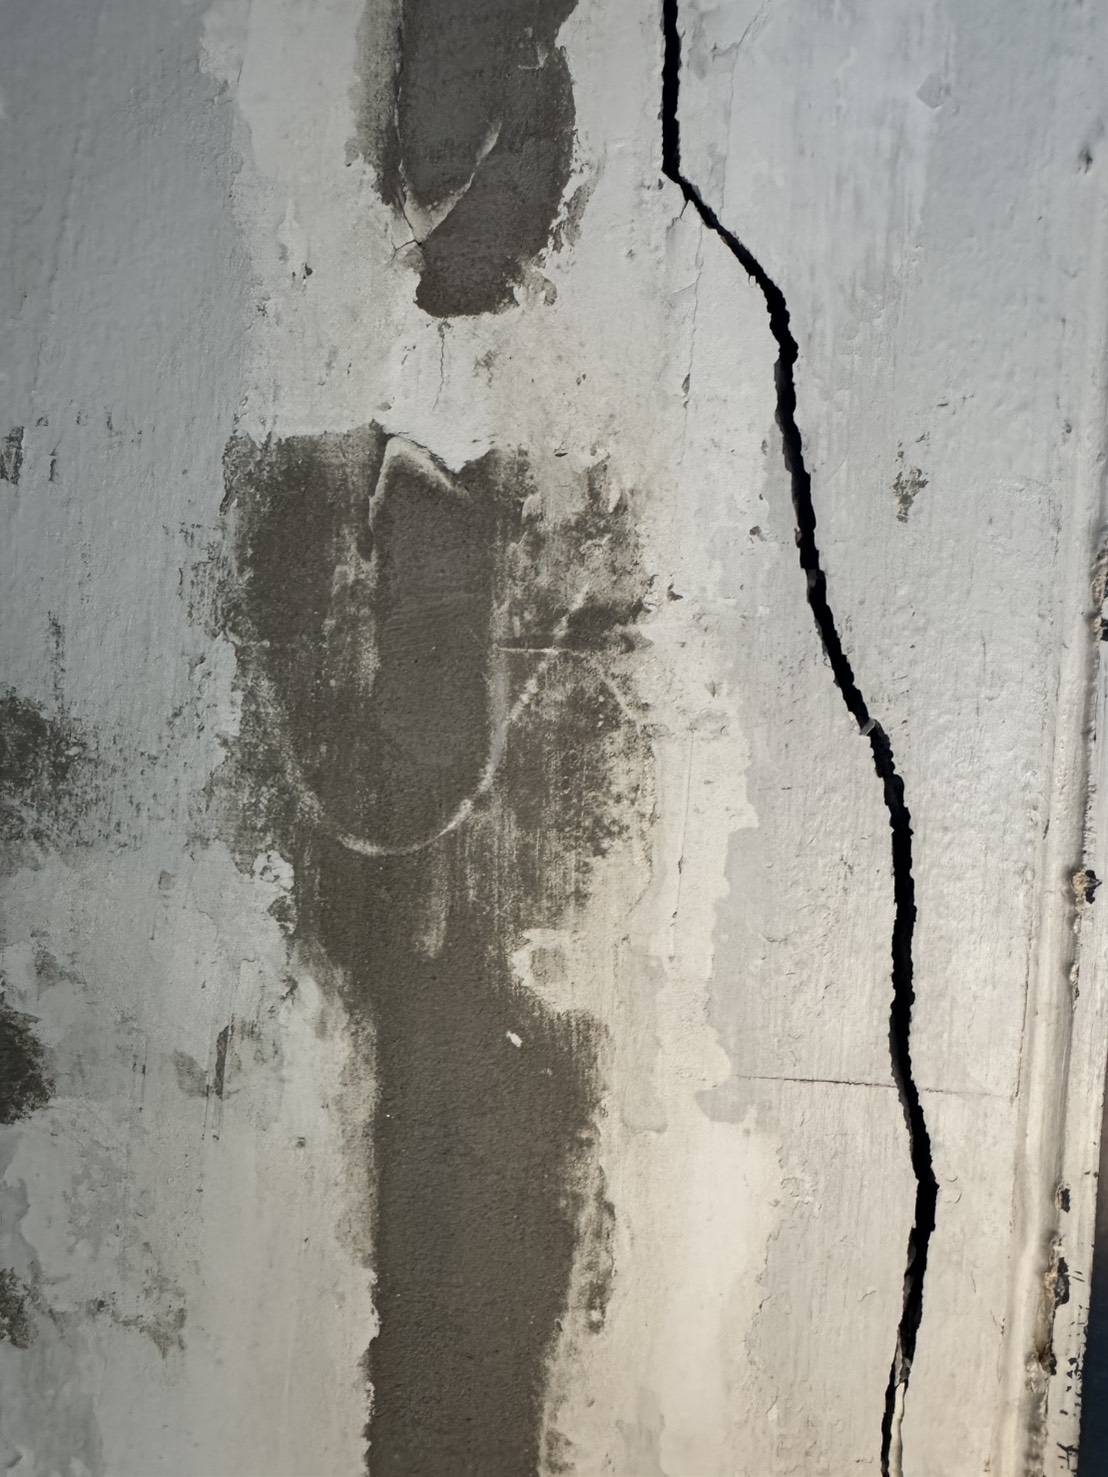Medium: (615, 26, 1006, 1414)
